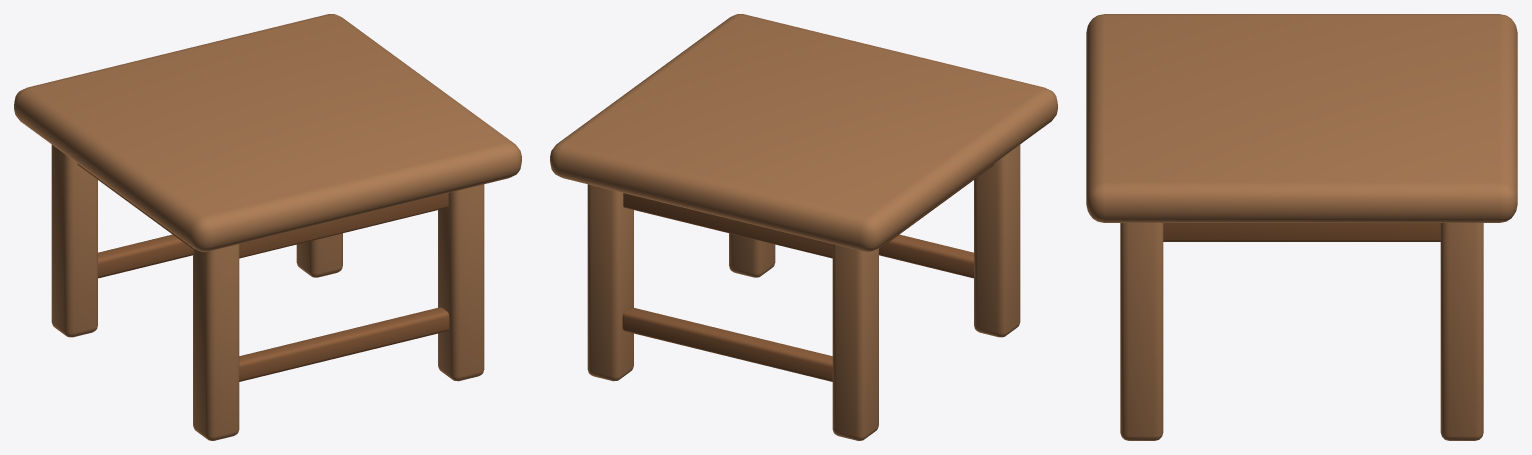
File: stool.glb
The picture shows the model from 3 angles, left to right: view 1: azimuth 30°, elevation 25°; view 2: azimuth 150°, elevation 25°; view 3: azimuth 270°, elevation 25°; orthographic projection. The views are drawn at different scales.
Parts seen in each view (by area): view 1: stool_seat, stool_leg, stool_leg.002, stool_leg.001, stool_stretcher, stool_rail_y, stool_stretcher.001, stool_leg.003; view 2: stool_seat, stool_leg.001, stool_leg.003, stool_leg, stool_stretcher.001, stool_rail_y.001, stool_stretcher, stool_leg.002; view 3: stool_seat, stool_leg.002, stool_leg.003, stool_rail_x.001.
Part boxes in pixels (bbox=[...]): stool_seat: bbox=[14, 14, 521, 251]; stool_leg: bbox=[193, 244, 239, 440]; stool_leg.002: bbox=[438, 184, 484, 381]; stool_leg.001: bbox=[51, 144, 97, 337]; stool_stretcher: bbox=[239, 307, 449, 381]; stool_rail_y: bbox=[239, 193, 448, 258]; stool_stretcher.001: bbox=[98, 234, 192, 278]; stool_leg.003: bbox=[296, 233, 342, 277]; stool_seat: bbox=[550, 14, 1057, 251]; stool_leg.001: bbox=[832, 244, 878, 440]; stool_leg.003: bbox=[587, 184, 633, 381]; stool_leg: bbox=[974, 144, 1020, 337]; stool_stretcher.001: bbox=[622, 307, 832, 381]; stool_rail_y.001: bbox=[623, 193, 832, 258]; stool_stretcher: bbox=[879, 234, 973, 278]; stool_leg.002: bbox=[729, 233, 775, 277]; stool_seat: bbox=[1086, 14, 1517, 222]; stool_leg.002: bbox=[1120, 223, 1163, 440]; stool_leg.003: bbox=[1440, 223, 1483, 440]; stool_rail_x.001: bbox=[1163, 223, 1440, 241].
Bounding box in the file's own units: 0.7 × 0.48 × 0.7.
